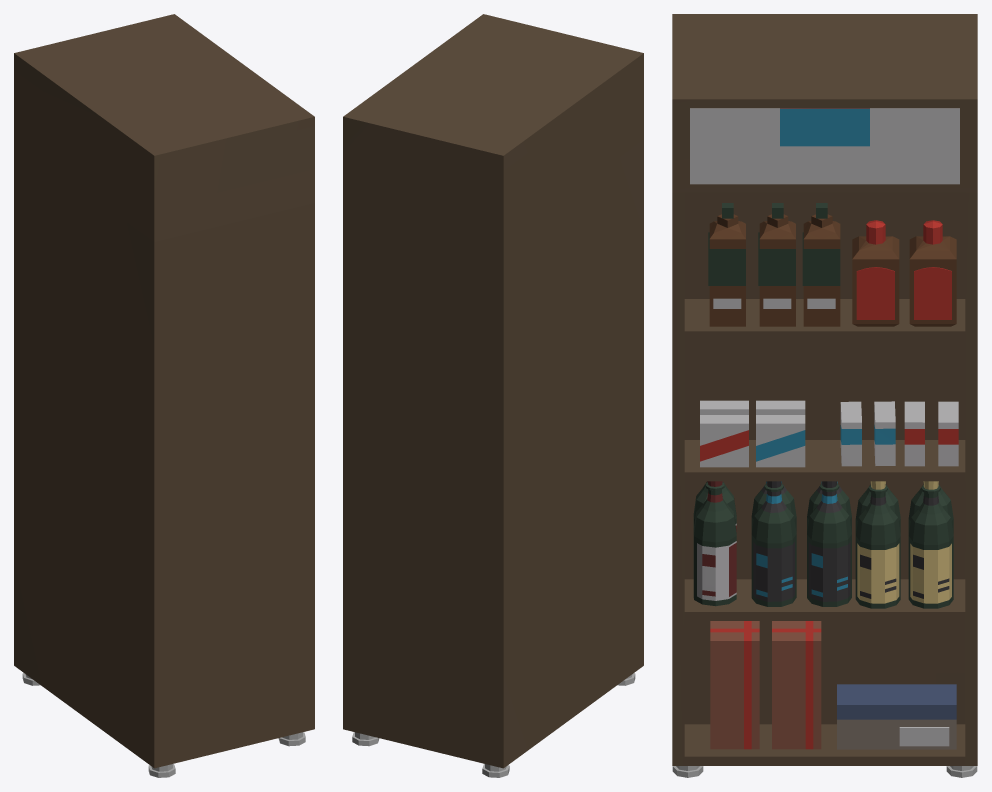
Rendered from SM_shopShelf_05.glb.
3 renders of one model, left to right at view 1: azimuth 30°, elevation 25°; view 2: azimuth 150°, elevation 25°; view 3: azimuth 270°, elevation 25°, orthographic. The views are drawn at different scales.
Parts seen in each view (by area): view 1: SM_shopShelf_05; view 2: SM_shopShelf_05; view 3: SM_shopShelf_05.
Part boxes in pixels (<box>): SM_shopShelf_05: <box>14,14,314,777</box>; SM_shopShelf_05: <box>343,14,643,777</box>; SM_shopShelf_05: <box>672,14,977,777</box>.
Bounding box in the file's own units: 0.6642 × 2.46 × 1.
1 material, 1 textured.
